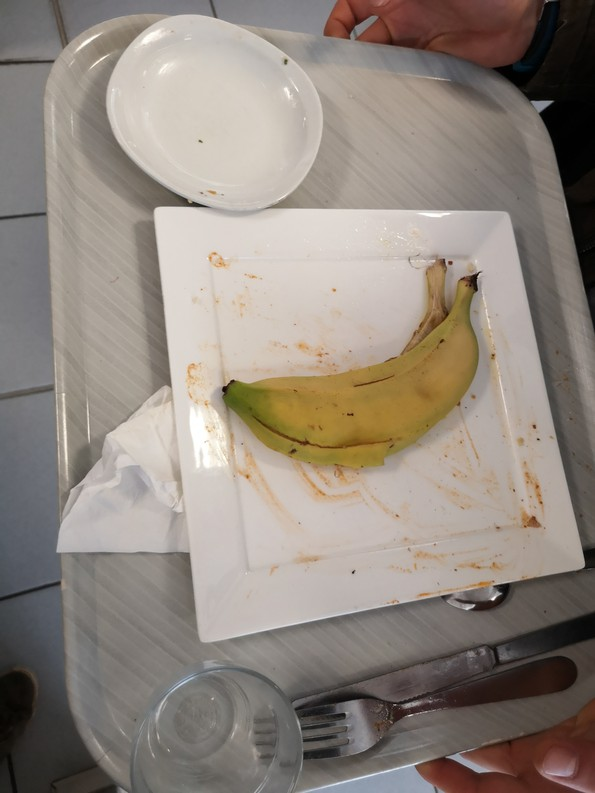cup: (161, 658, 299, 793)
cutlery: (310, 631, 595, 774)
orga: (215, 271, 491, 473)
trash: (64, 376, 202, 574)
